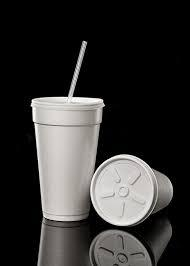Plastic cup: (27, 78, 180, 237)
